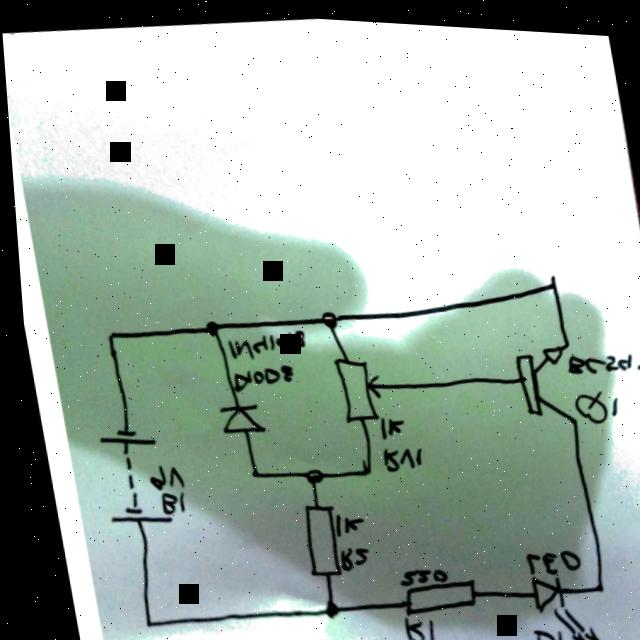diode: (518, 562, 592, 640), (208, 396, 259, 435)
junction: (294, 463, 316, 484), (313, 304, 333, 327), (311, 596, 331, 617), (239, 460, 255, 478), (197, 317, 213, 334), (582, 573, 598, 588), (131, 613, 145, 629), (352, 459, 366, 474), (541, 272, 555, 287), (96, 327, 110, 341), (554, 330, 567, 344), (562, 408, 575, 422)
resistor: (389, 568, 472, 615), (324, 349, 378, 421), (289, 498, 336, 575)
source: (97, 499, 166, 529), (88, 422, 149, 450)
text: (217, 320, 304, 362), (557, 338, 640, 373), (222, 356, 290, 392), (563, 378, 617, 421), (513, 537, 574, 572), (373, 438, 419, 470), (384, 559, 439, 584), (137, 459, 178, 490), (327, 539, 364, 570), (392, 610, 428, 640), (324, 505, 357, 534), (149, 486, 179, 514), (369, 410, 400, 436), (518, 620, 556, 640)
transistor: (500, 333, 567, 411)
